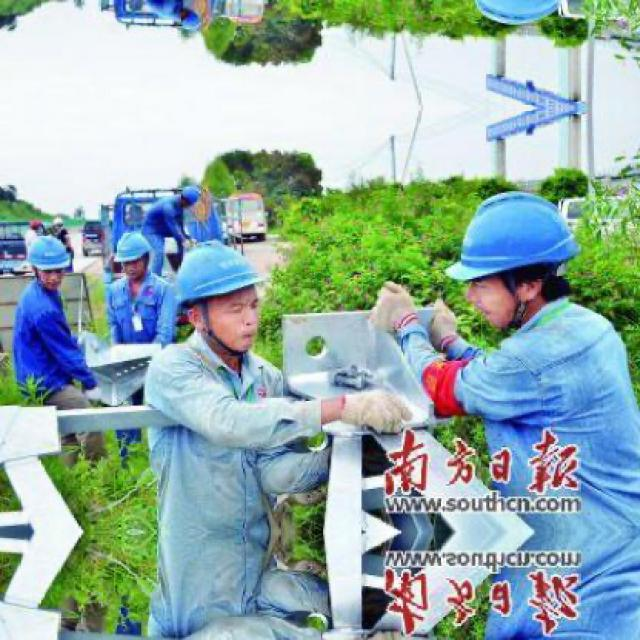helmet: (443, 176, 585, 332), (170, 236, 276, 350), (443, 0, 586, 42), (31, 233, 68, 287), (115, 228, 151, 278), (175, 185, 203, 208), (175, 10, 203, 32), (50, 216, 64, 233)
